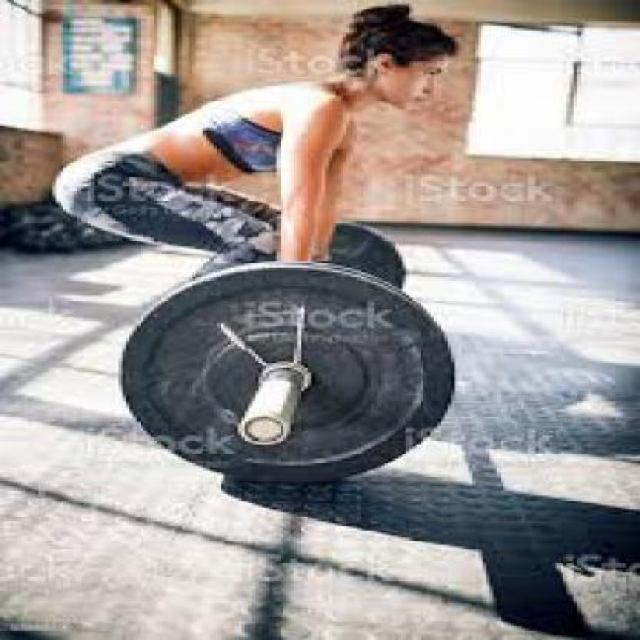Barbell: (234, 410, 292, 448)
